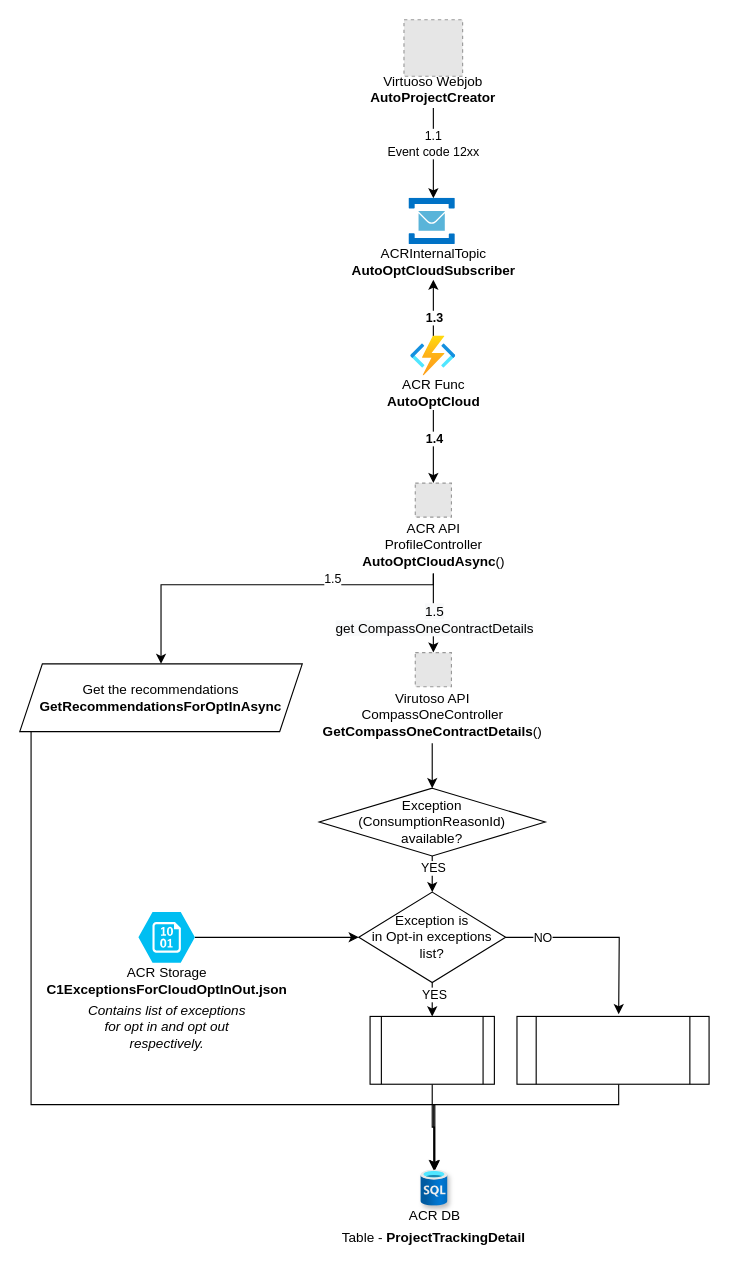
Image size: 729x1269. Some labels were removed from this diagram. Grey dashed boxes stand in for pictures. Here are the shapes that lost their labels. From the top down, the centre of each, then its label:
At (431,1049): "Opt-in all clouds".
At (612,1049): "Opt-out all clouds with the reason based on Opt-in exceptions list".
